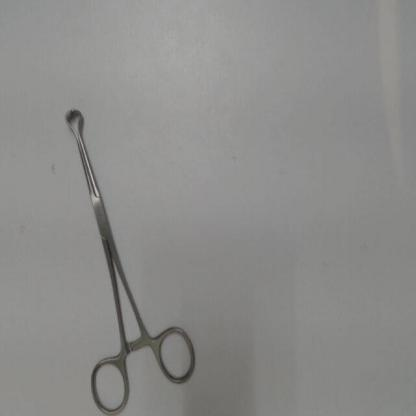Babcock Tissue Forceps: (61, 102, 202, 414)
